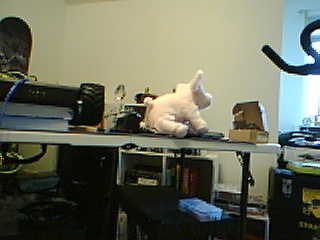piggy: (142, 68, 215, 140)
